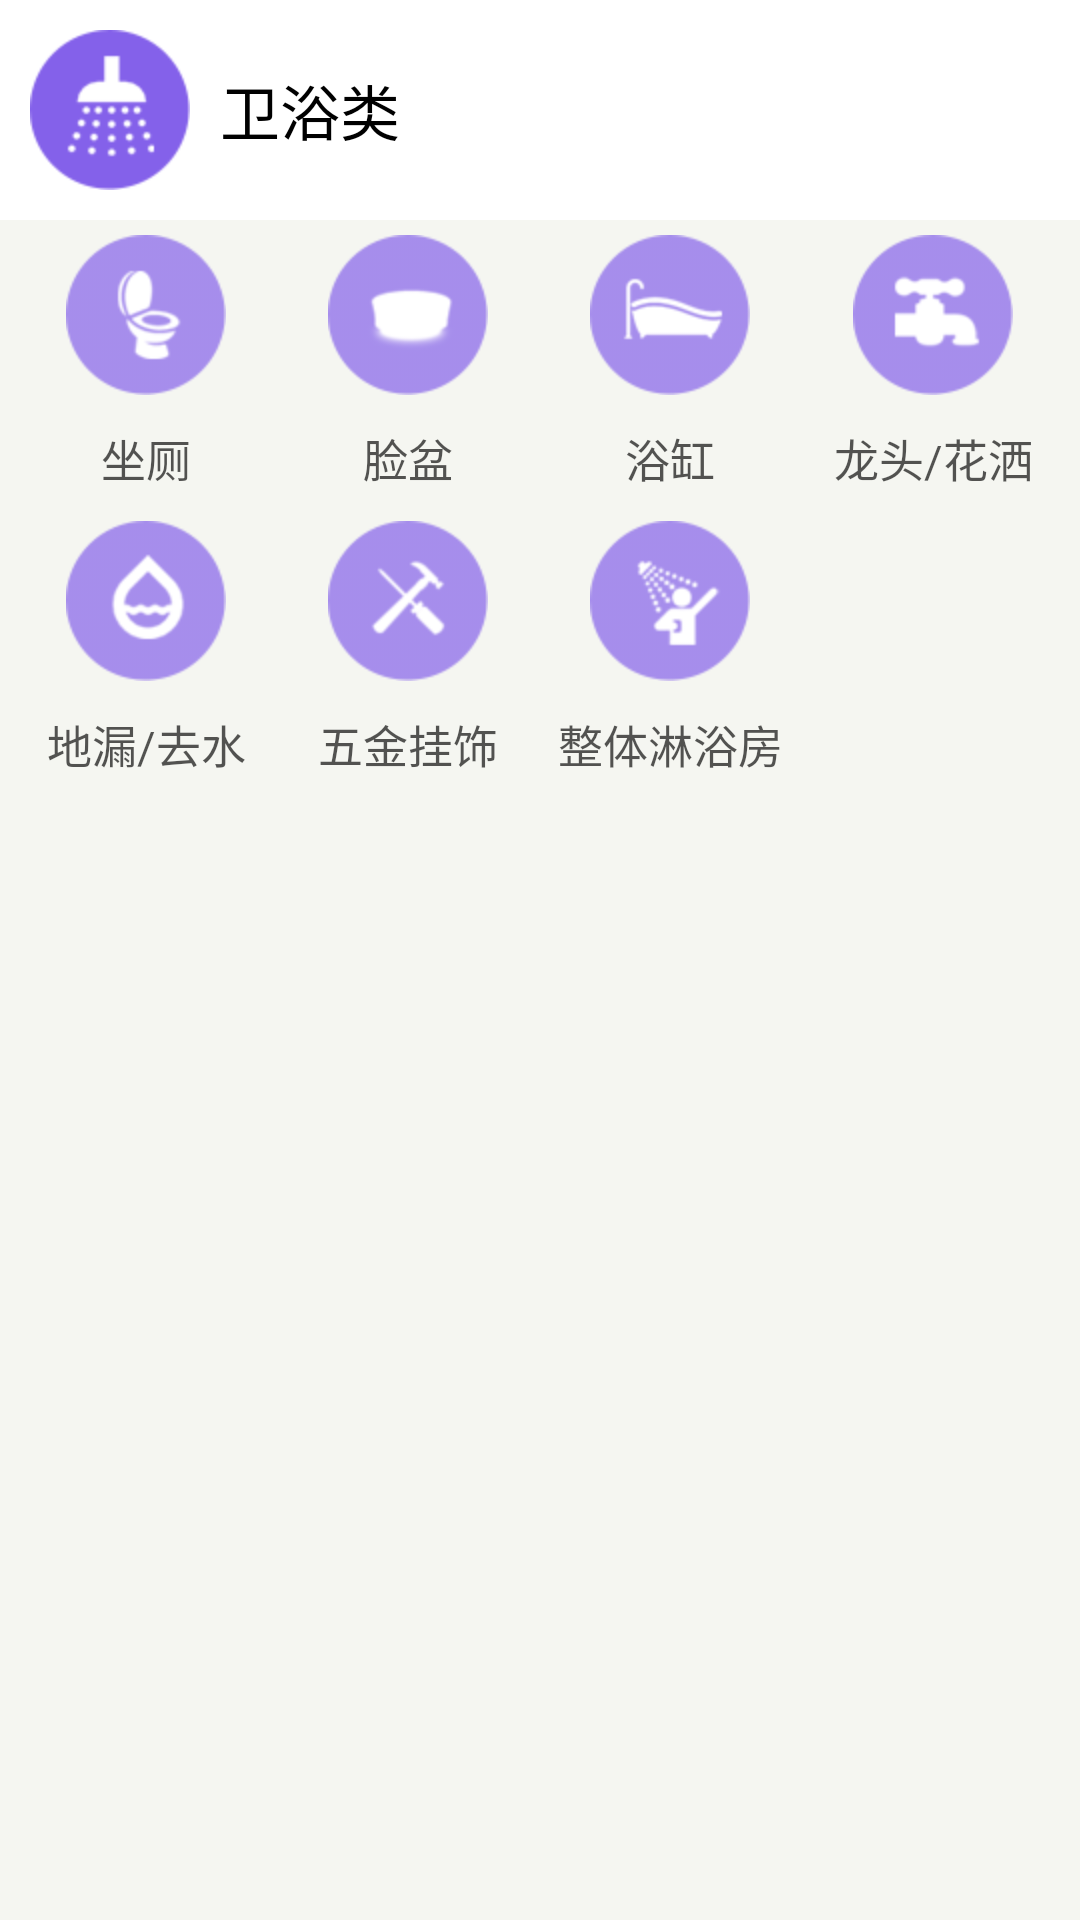

Point at icon controls on the screen. Image size 1080px x 1920px, points as (x=x, y=y).
left menu wash: (x=110, y=110)
